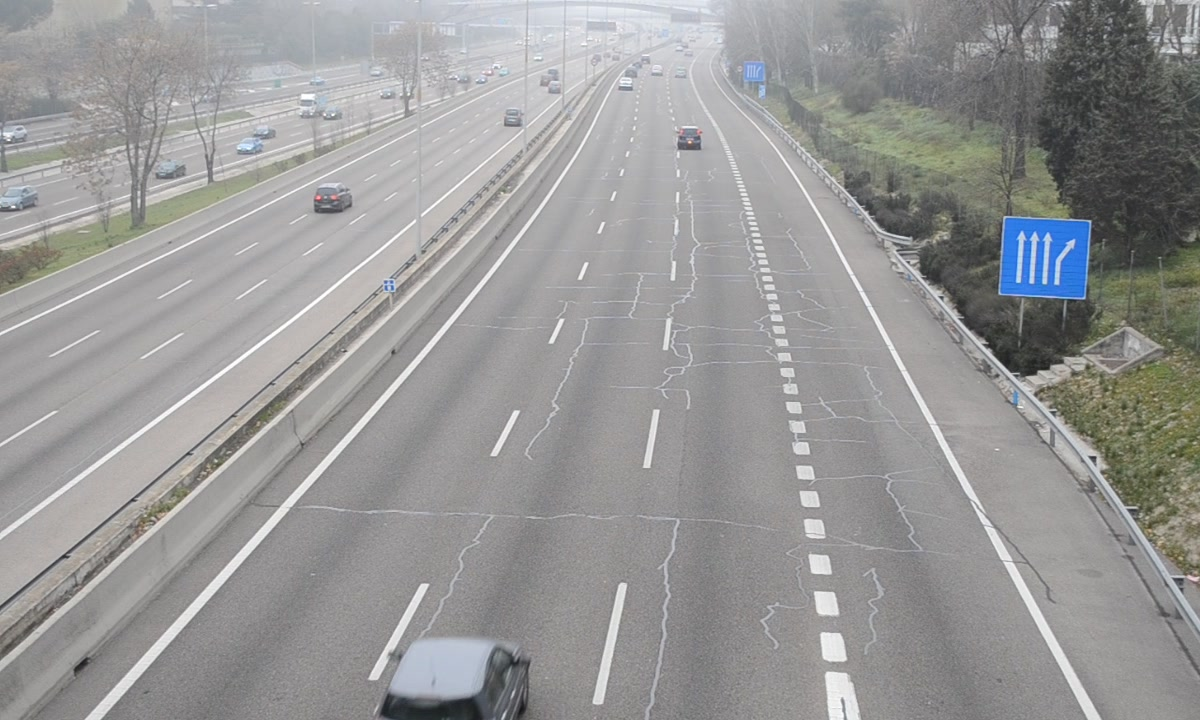car: (372, 636, 531, 718), (675, 124, 703, 151)
